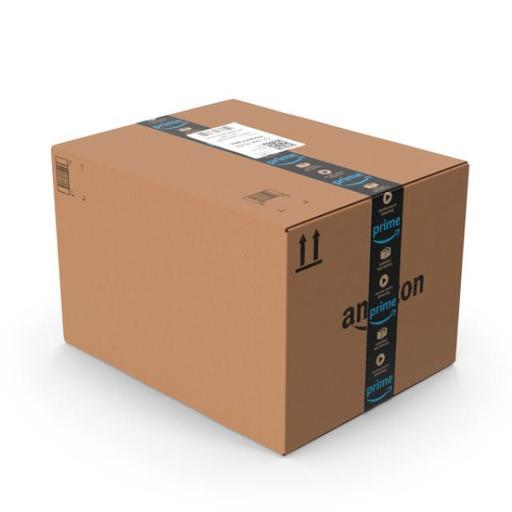Amazon: (52, 97, 472, 463)
